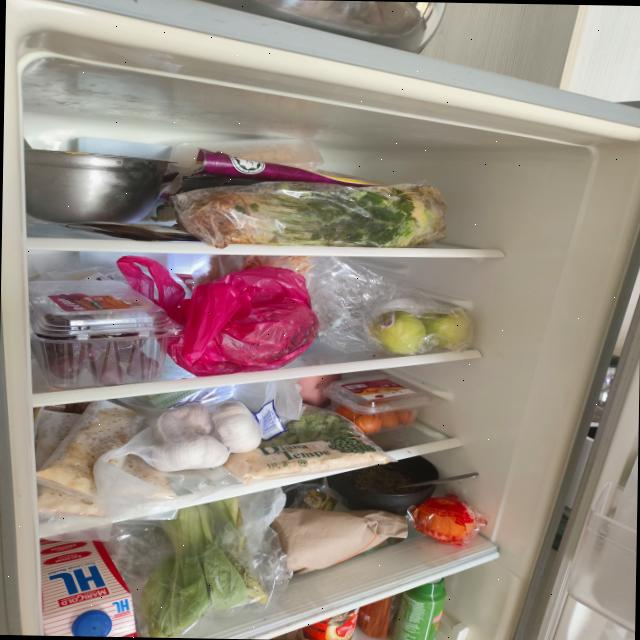apple: (368, 308, 475, 356)
garlic: (151, 399, 262, 473)
grape: (26, 312, 160, 384)
leafy_greens: (175, 180, 448, 253), (258, 409, 359, 449)
orange: (412, 496, 476, 542)
pakchoy: (139, 495, 271, 639)
tempeh: (34, 399, 178, 519), (224, 434, 391, 484)
unknown_bag: (113, 254, 319, 378)
